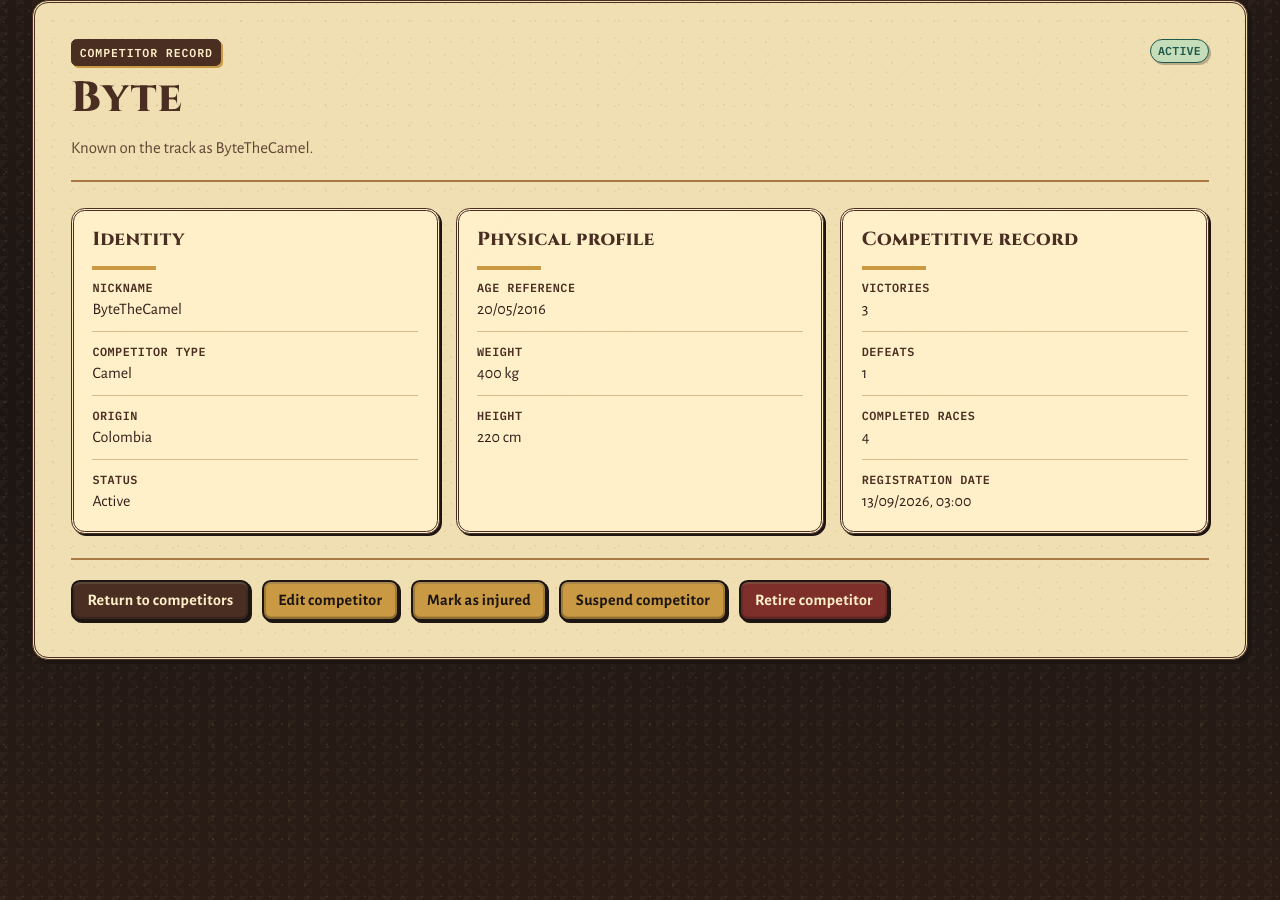
it: CompetitorDetailPage › updates status after confirmation and shows success feedback
The width and height of the screenshot is (1280, 900).
Click the button "Mark as injured".
click(479, 600)  # box [411,580,548,621]
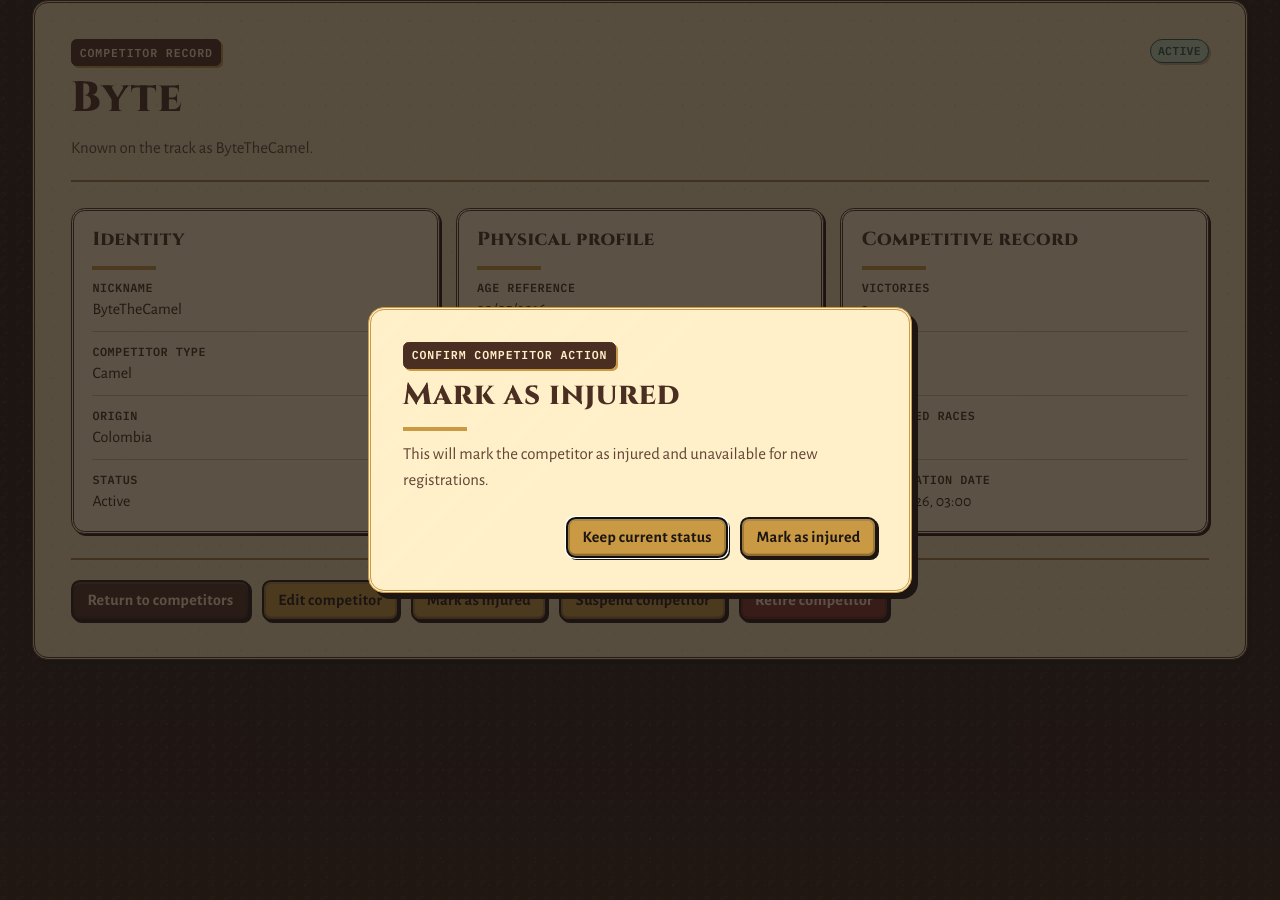
Click the button "Mark as injured".
click(809, 538)  # box [740,517,877,558]
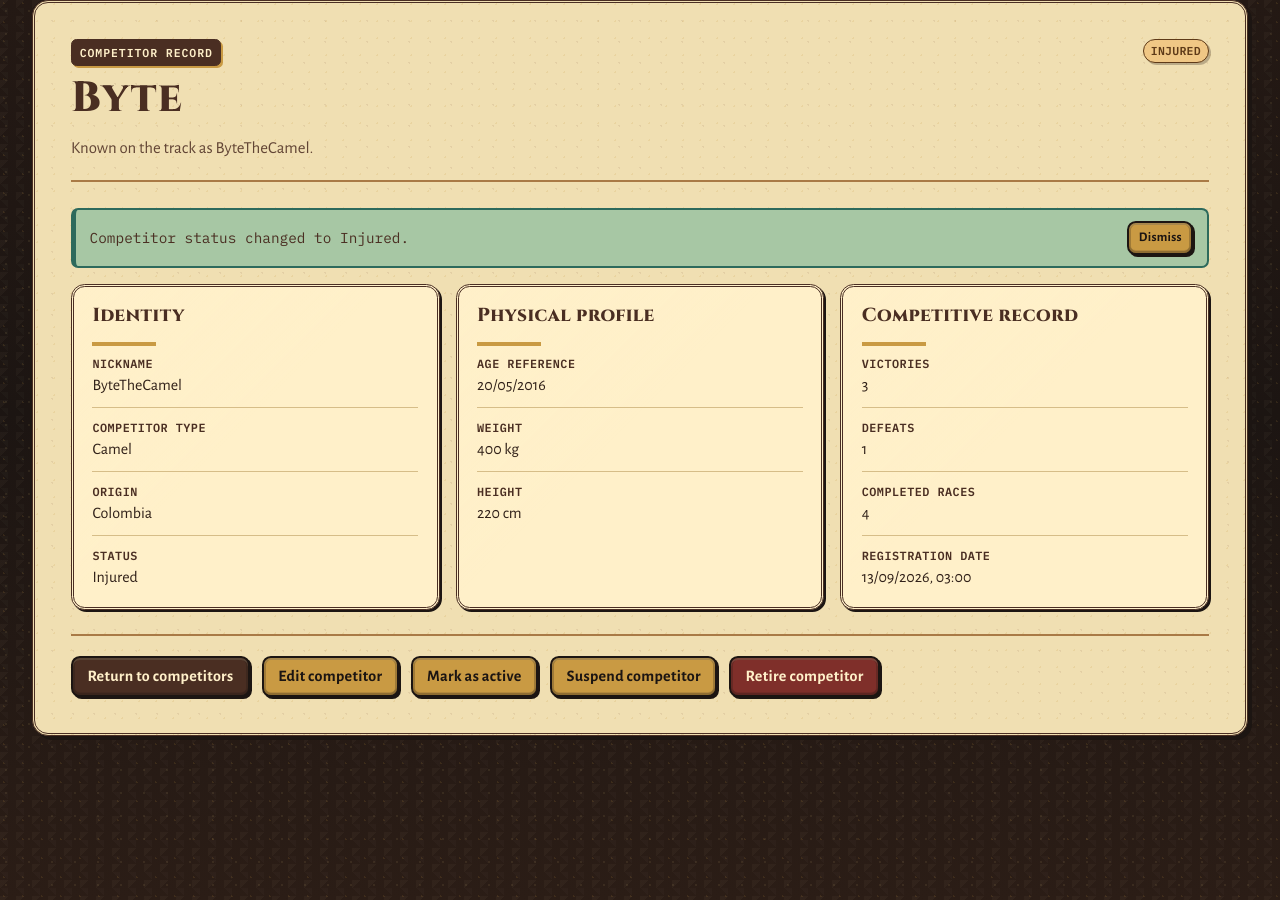
Expected: the text "Competitor status changed to Injured." is shown, [90,228,409,247]
Expected: the button "Mark as active" is shown, [411,656,538,697]
